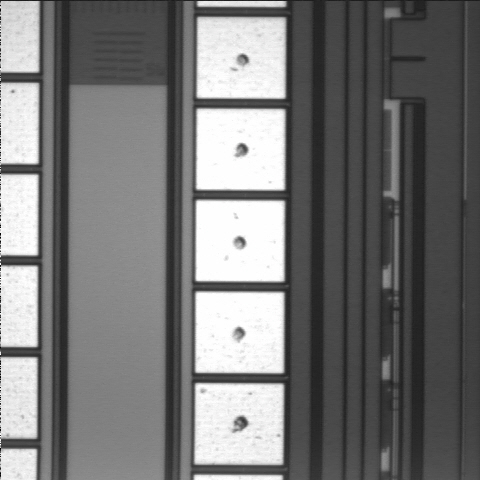pad: (195, 200, 285, 282), (194, 383, 284, 465), (197, 17, 285, 99), (196, 109, 285, 190), (195, 292, 284, 373)
